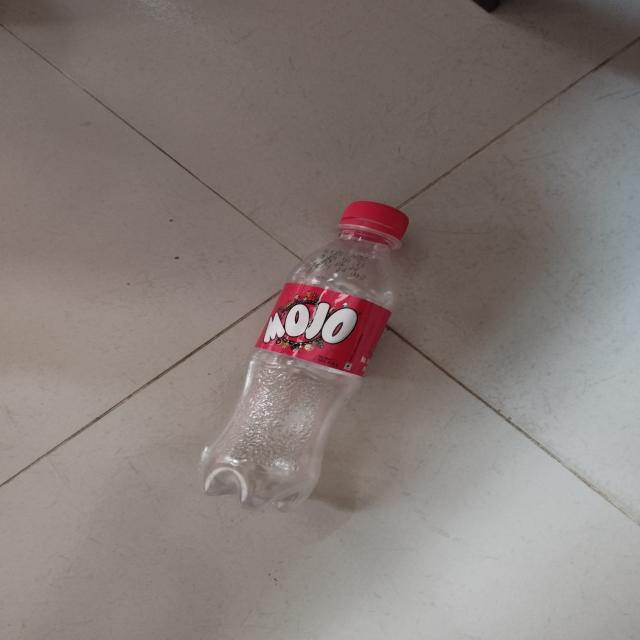plastic: (201, 202, 411, 511)
